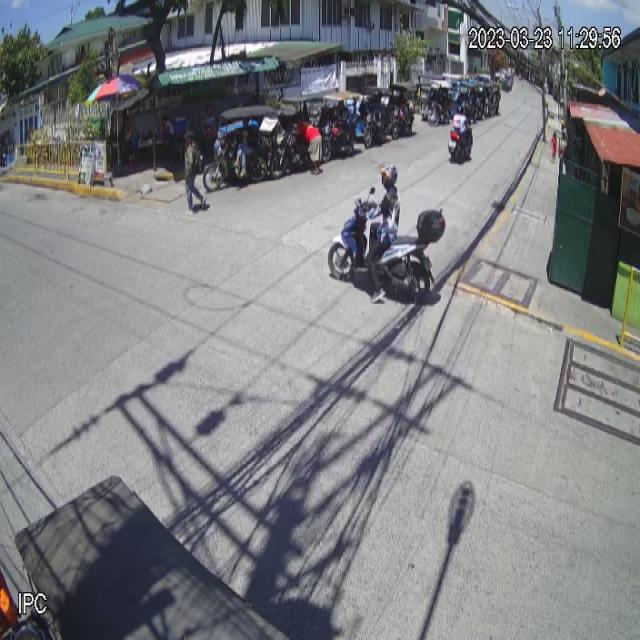Motorcycle: (328, 186, 446, 304)
